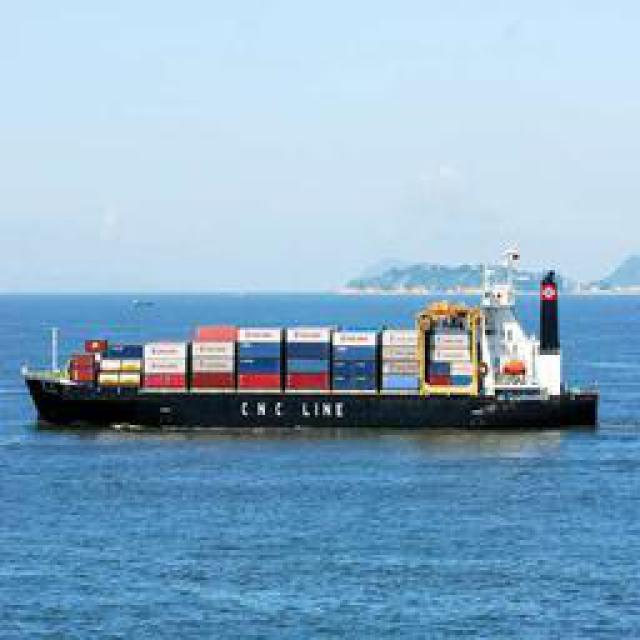Ship: (24, 277, 624, 437)
